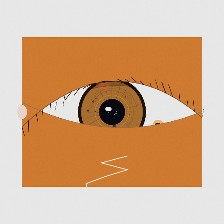foreign_body_visible: (142, 112, 174, 138)
